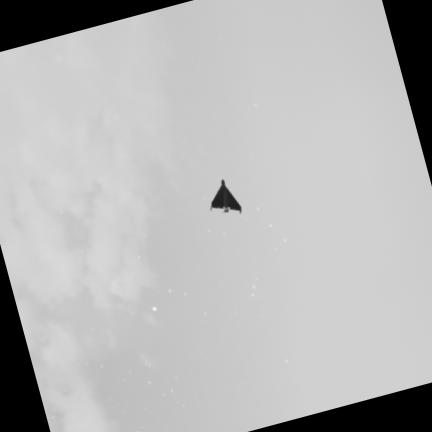Shahed: (210, 179, 240, 211)
